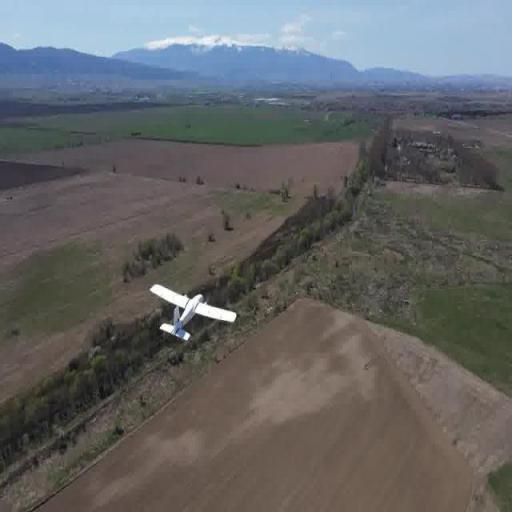uav: (149, 284, 240, 346)
